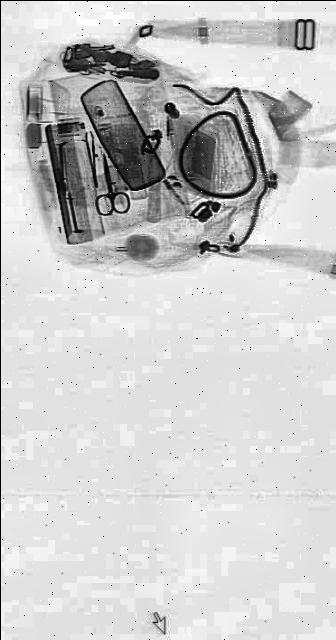Scissors: (92, 150, 130, 220)
